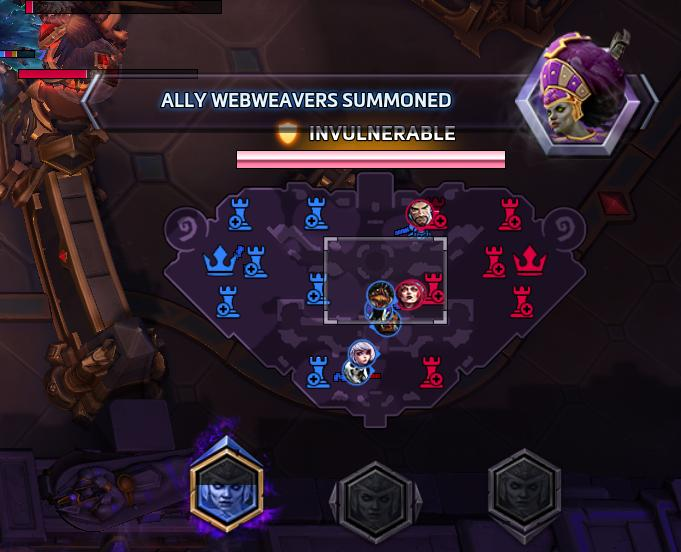blue nexus: (201, 243, 245, 276)
blue player: (364, 280, 395, 314), (369, 305, 401, 336), (347, 339, 379, 369), (341, 358, 371, 385)
blue tower: (226, 196, 253, 231), (303, 195, 329, 230), (305, 270, 330, 306), (242, 244, 268, 278), (215, 283, 240, 318), (305, 355, 330, 388)
red nexus: (511, 243, 547, 276)
red player: (394, 278, 426, 311), (405, 199, 434, 228)
red tower: (418, 354, 444, 389), (508, 284, 534, 318), (497, 196, 522, 231), (481, 244, 506, 278), (422, 271, 444, 305)
